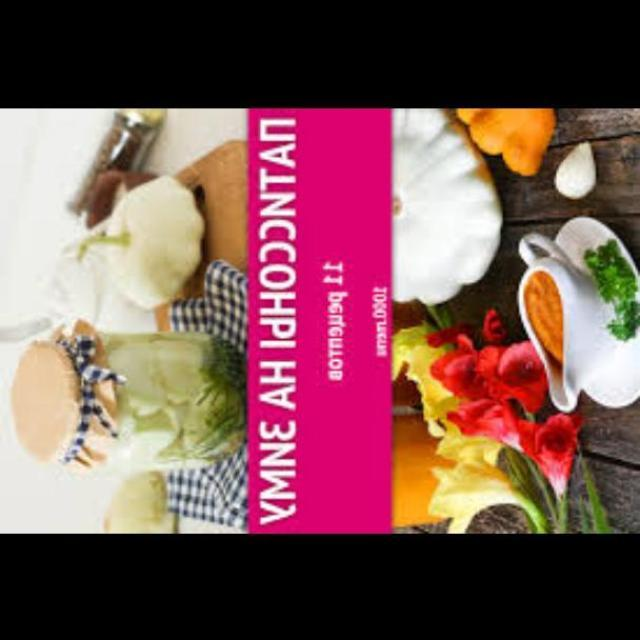garlic: (544, 131, 602, 197)
squash-patisson: (356, 106, 496, 300), (84, 164, 200, 310), (100, 338, 204, 457), (444, 106, 558, 182), (90, 473, 171, 531)
